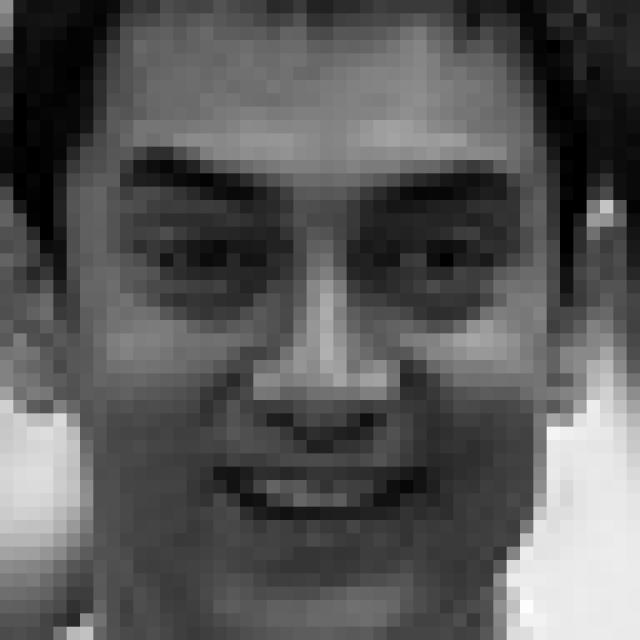happy: (107, 134, 530, 583)
